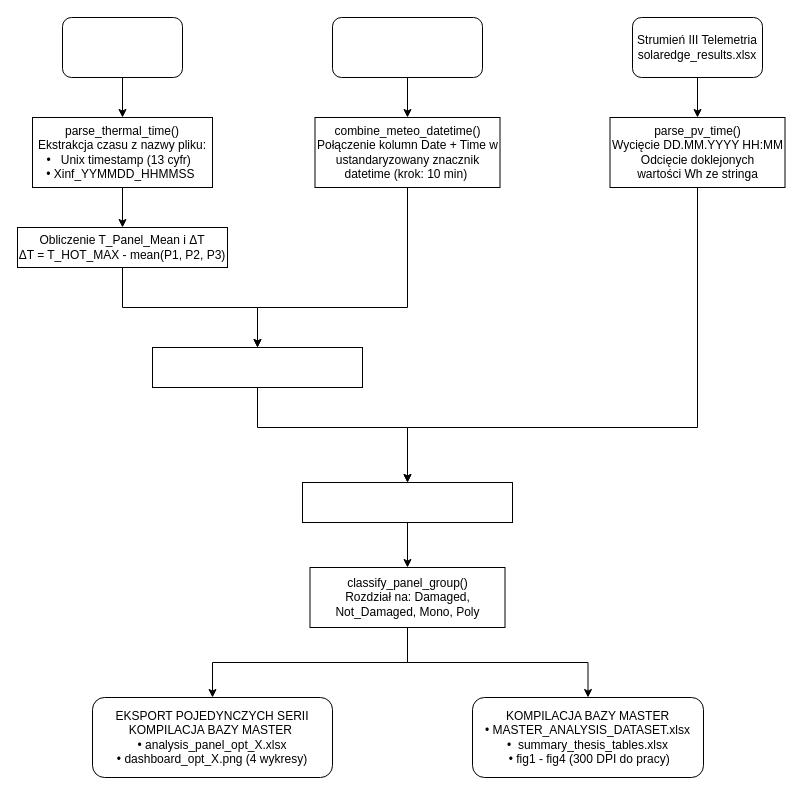
Some shapes in this 803 by 795 pixel diagram are drawn without their labels. The shapes that lost their labels are listed below. From the top down, each one's centre as x and y in pixels, then its label:
(x=122, y=47): Strumień I Termowizja raport_final.xlsx
(x=407, y=47): Strumień II Metrologia weather_measurment.xlsx
(x=257, y=367): pd.merge_asof() Kierunek: nearest, Tolerancja: 15 min
(x=407, y=502): pd.merge_asof() Kierunek: nearest, Tolerancja: 35 min
